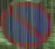No waiting: (1, 2, 52, 47)
